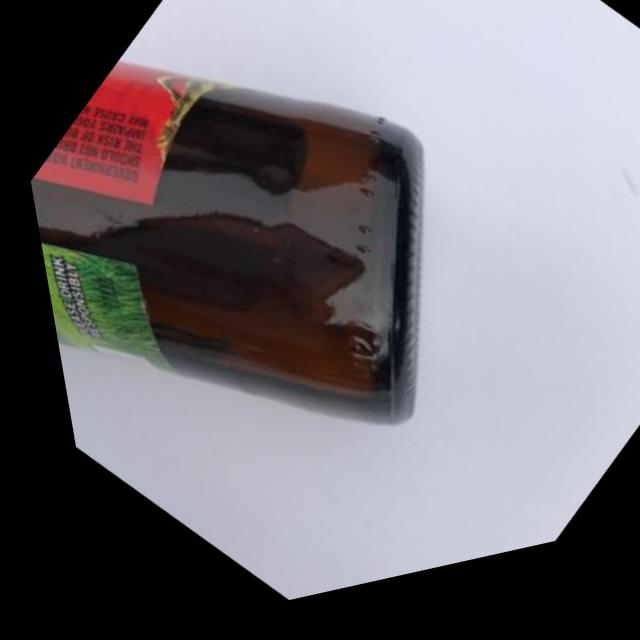glass: (0, 0, 629, 640)
